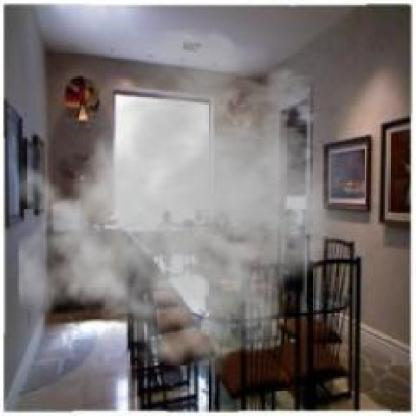Smoke: (19, 28, 362, 380)
